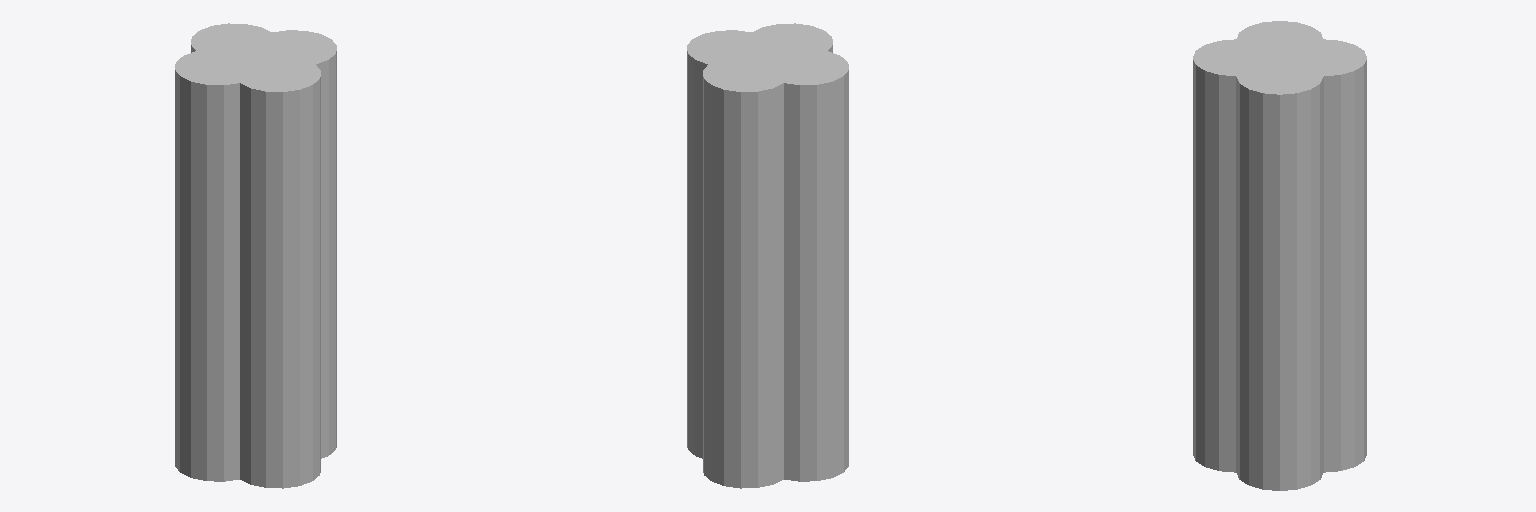
Rendered from wall_small4.obj.
The picture shows the model from 3 angles: view 1: azimuth 30°, elevation 25°; view 2: azimuth 150°, elevation 25°; view 3: azimuth 270°, elevation 25°; orthographic projection.
Bounding box in the file's own units: 0.8 × 2 × 0.8.